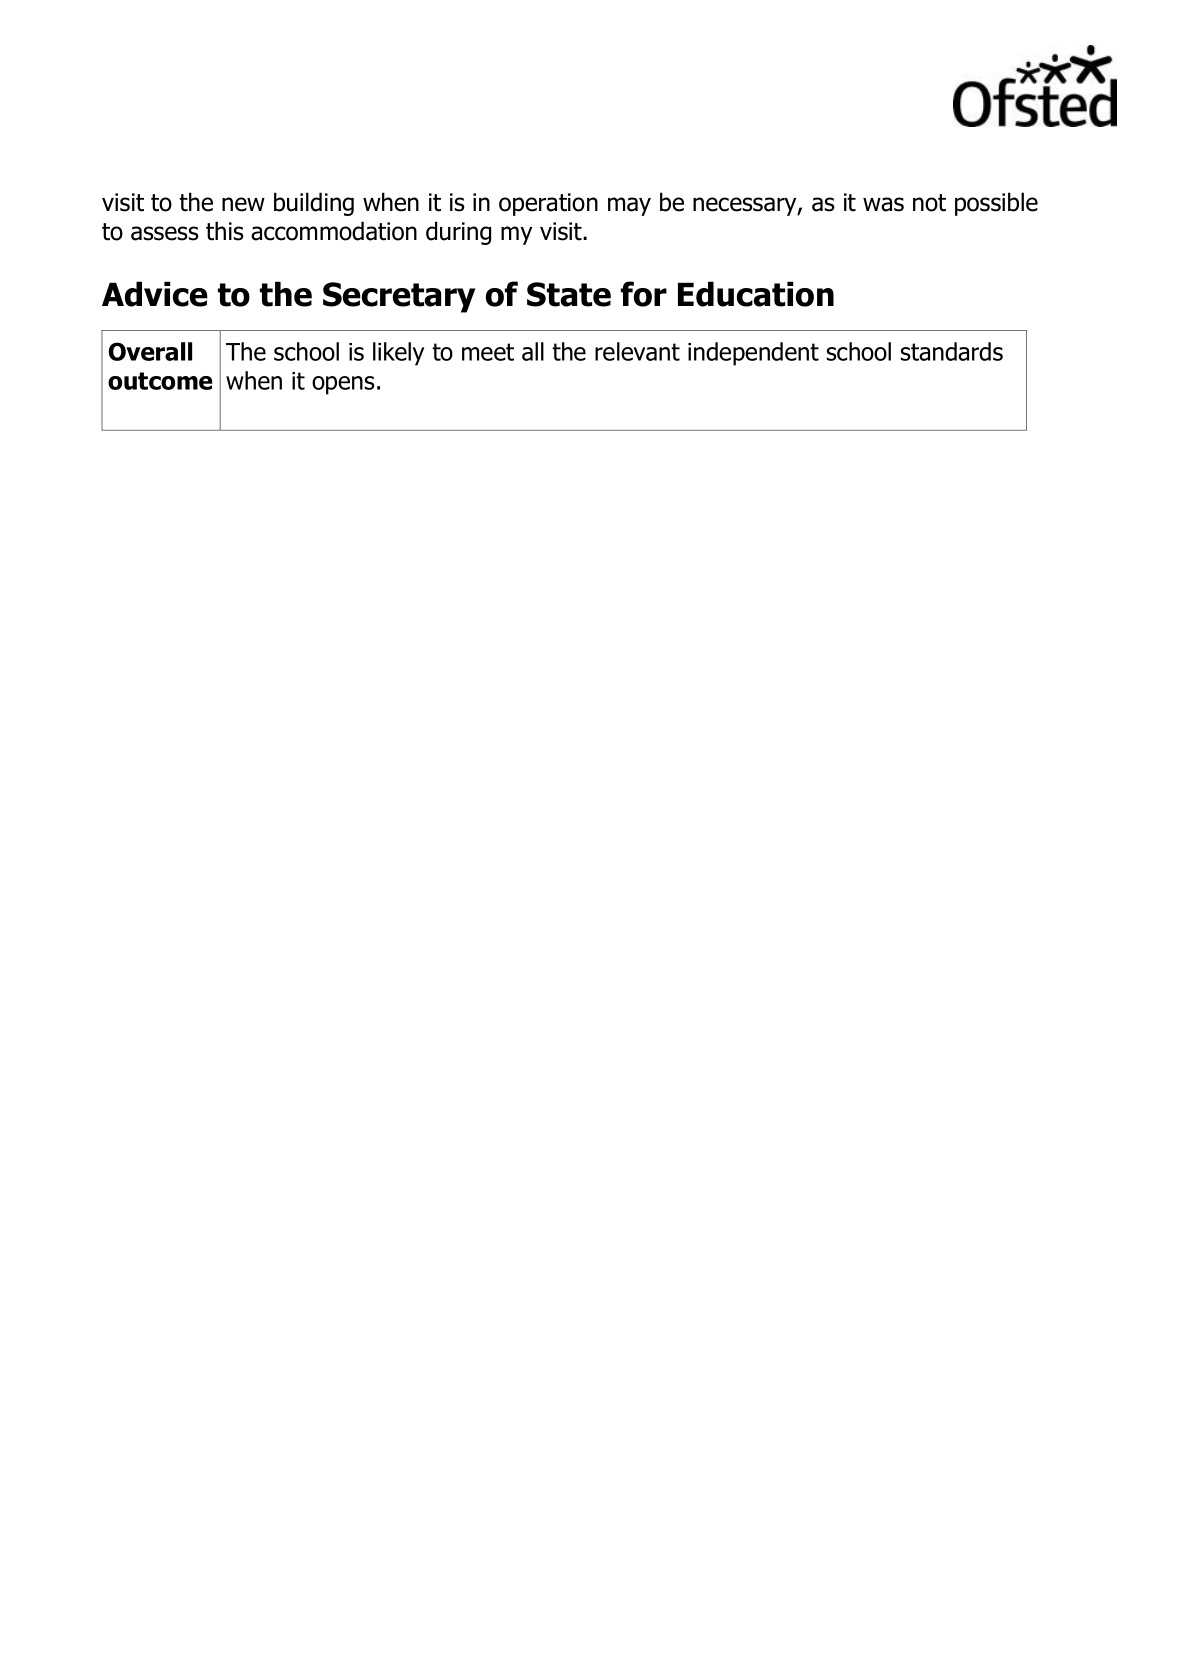full_lined: (99, 329, 1028, 432)
